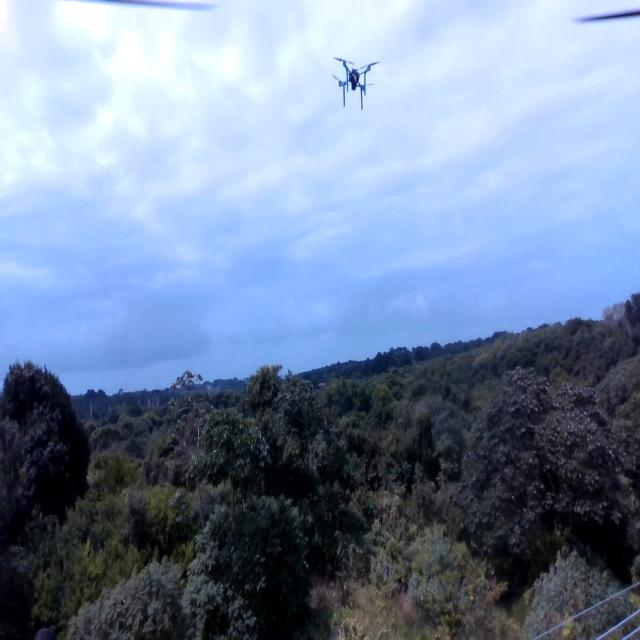-uav-: (321, 40, 385, 124)
